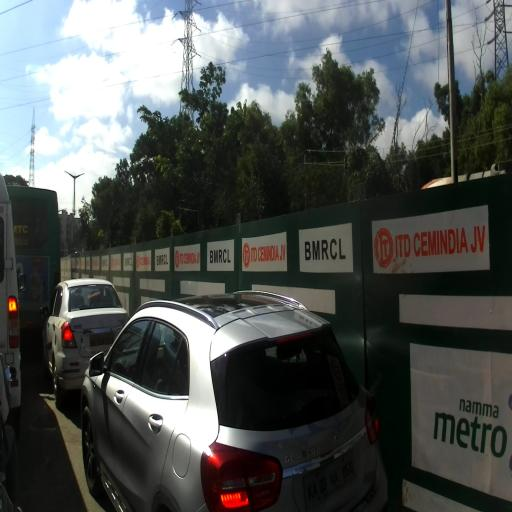street_light_0: (64, 171, 76, 180), (74, 172, 85, 180), (59, 209, 67, 213)
